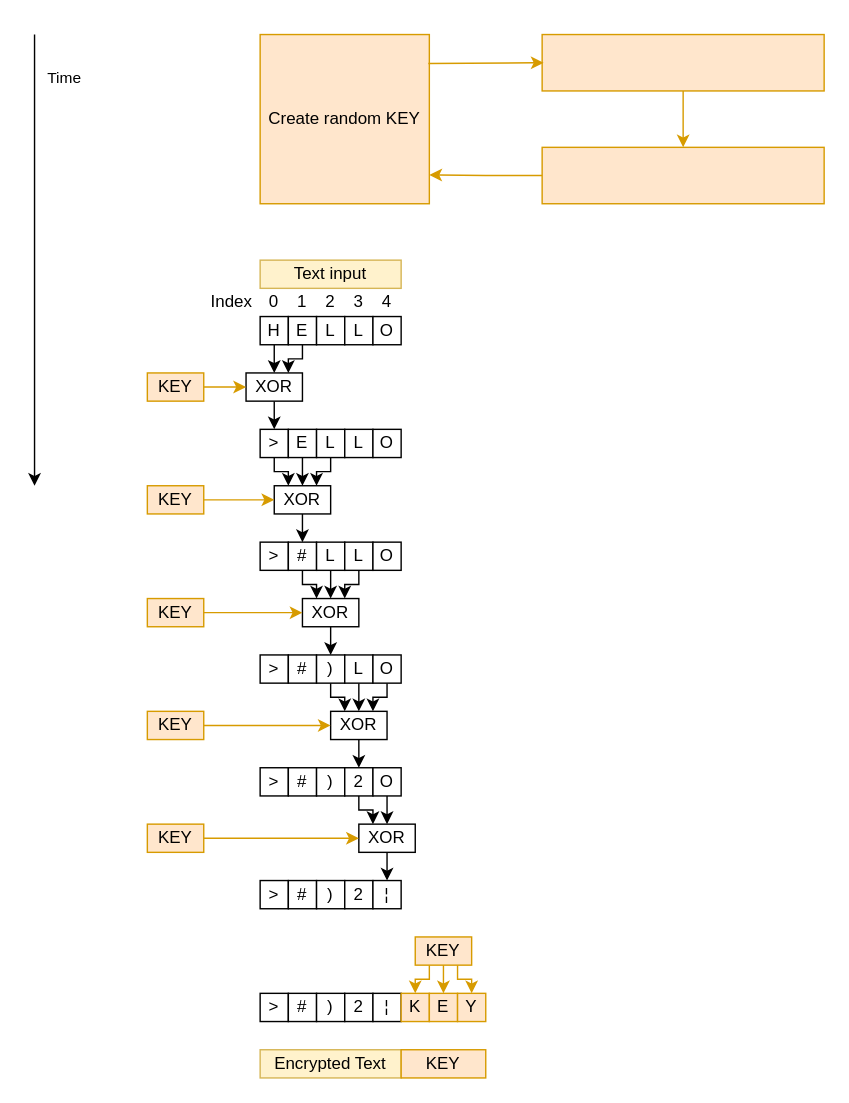
Some shapes in this 849 by 1103 pixel diagram are drawn without their labels. Here are the shapes that lost their labels. From the top down, the centre of each, then its label:
the point at 682,62: Hash the compile time using the macro __TIME__ to create a seed
the point at 682,175: Create a pseudo random KEY-string using the seed
